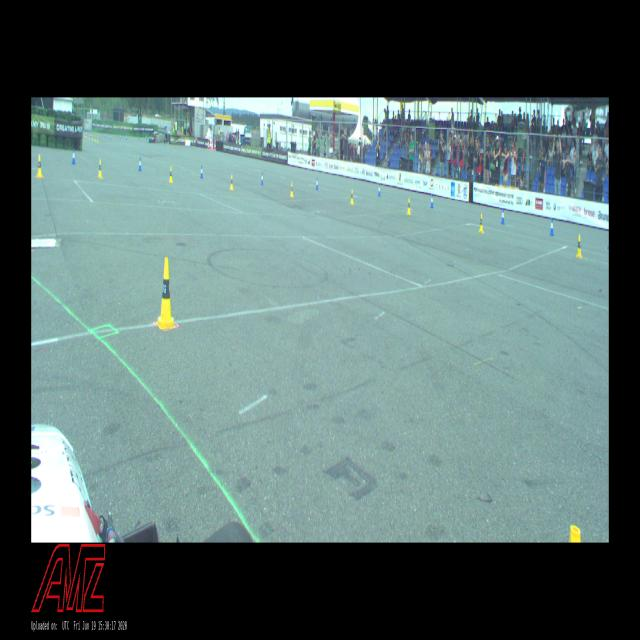blue_cone: (429, 193, 434, 209), (550, 218, 554, 236), (72, 148, 76, 164), (500, 209, 504, 224), (260, 172, 264, 186), (138, 157, 142, 171), (200, 166, 204, 178), (378, 184, 380, 197), (316, 177, 318, 190)
yellow_cone: (156, 257, 176, 330), (568, 524, 580, 542), (36, 155, 43, 177), (576, 235, 582, 258), (478, 213, 484, 233), (98, 159, 103, 178), (406, 198, 411, 215), (350, 189, 354, 205), (290, 182, 294, 198), (170, 166, 173, 183), (230, 175, 233, 190)
